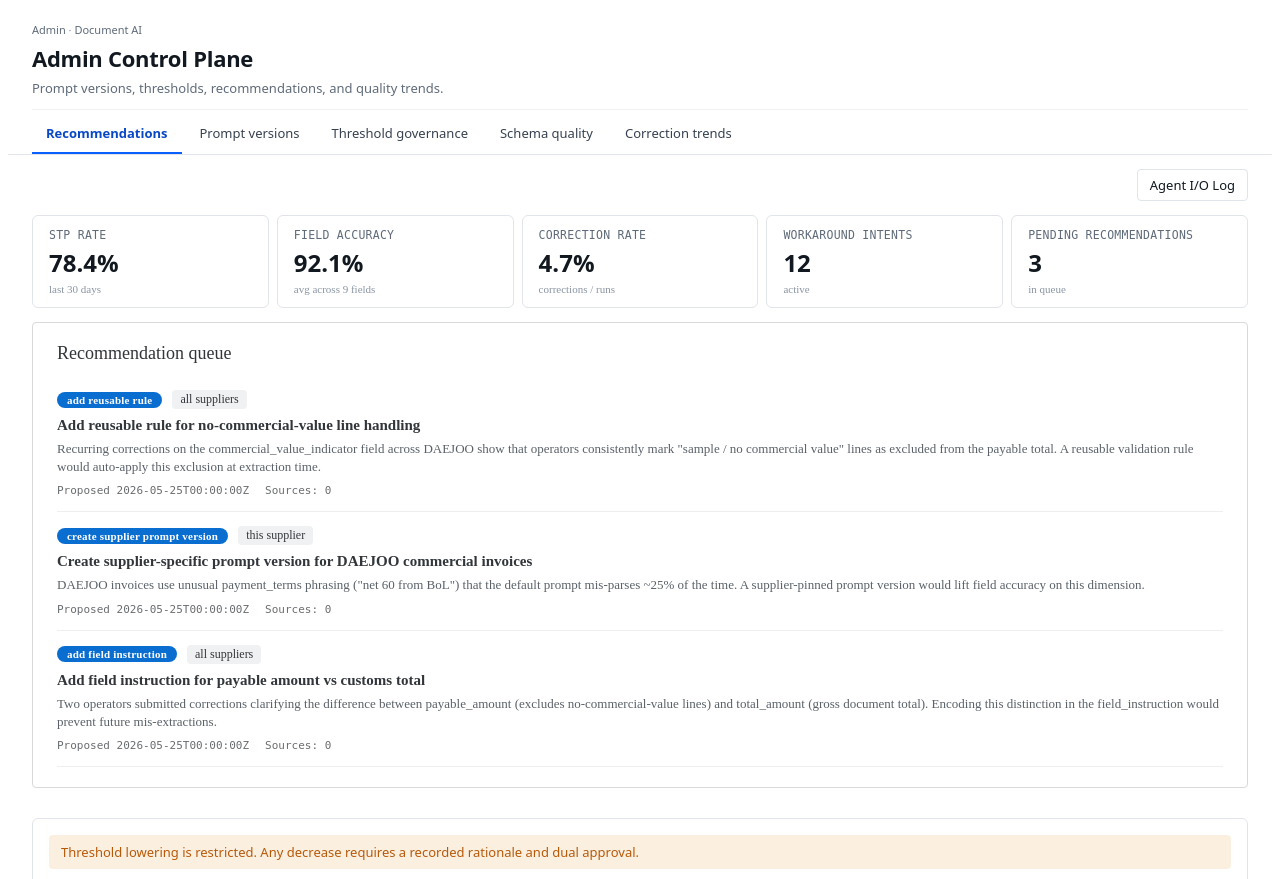
Test: F-30 AdminRoute — Agent I/O Log entry point › toggling the button again unmounts the panel
Click the button with test id "admin-agent-io-log-button": (1192, 185) [1137, 169, 1248, 201]
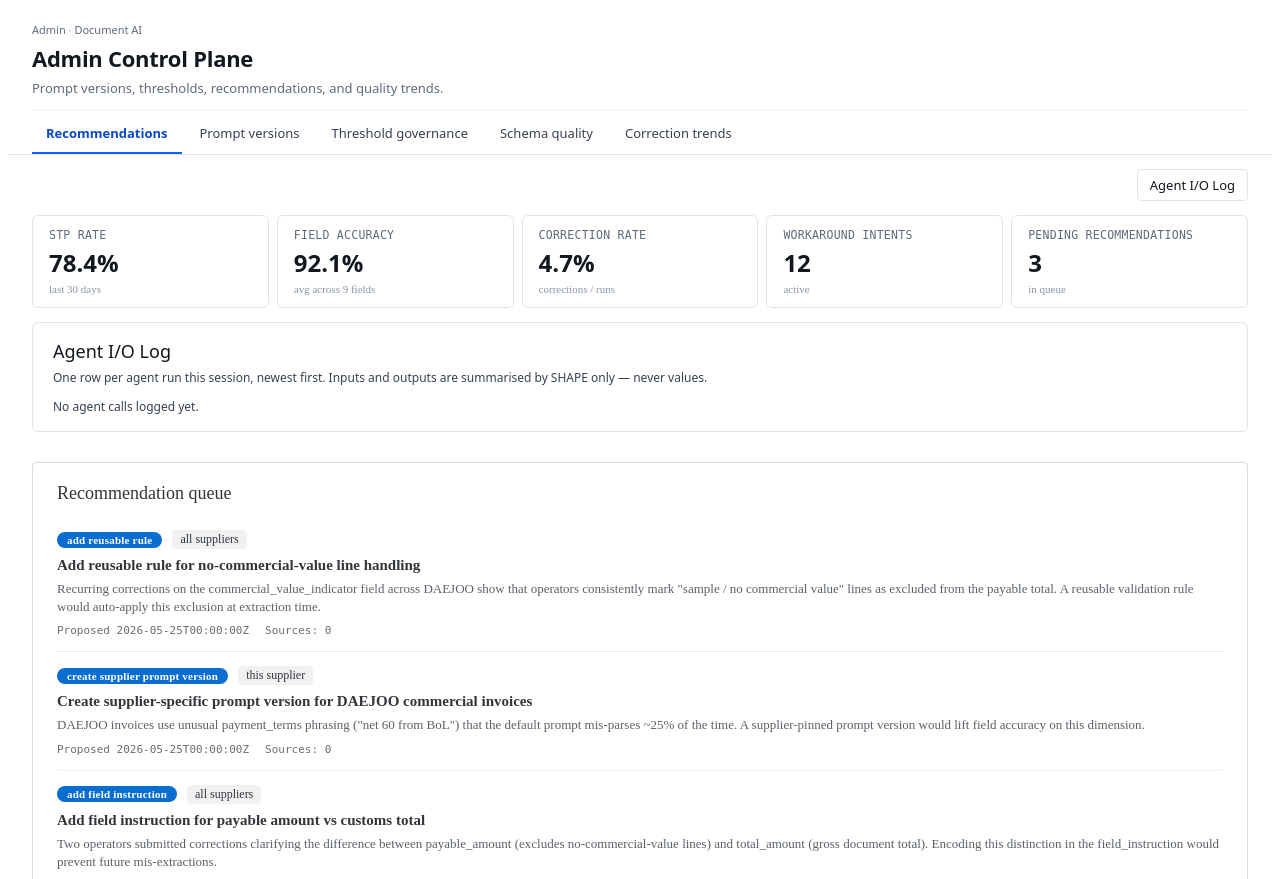
Expected: the element with test id "agent-io-log-panel" is shown, [32, 322, 1248, 432]
Click the button with test id "admin-agent-io-log-button": (1192, 185) [1137, 169, 1248, 201]
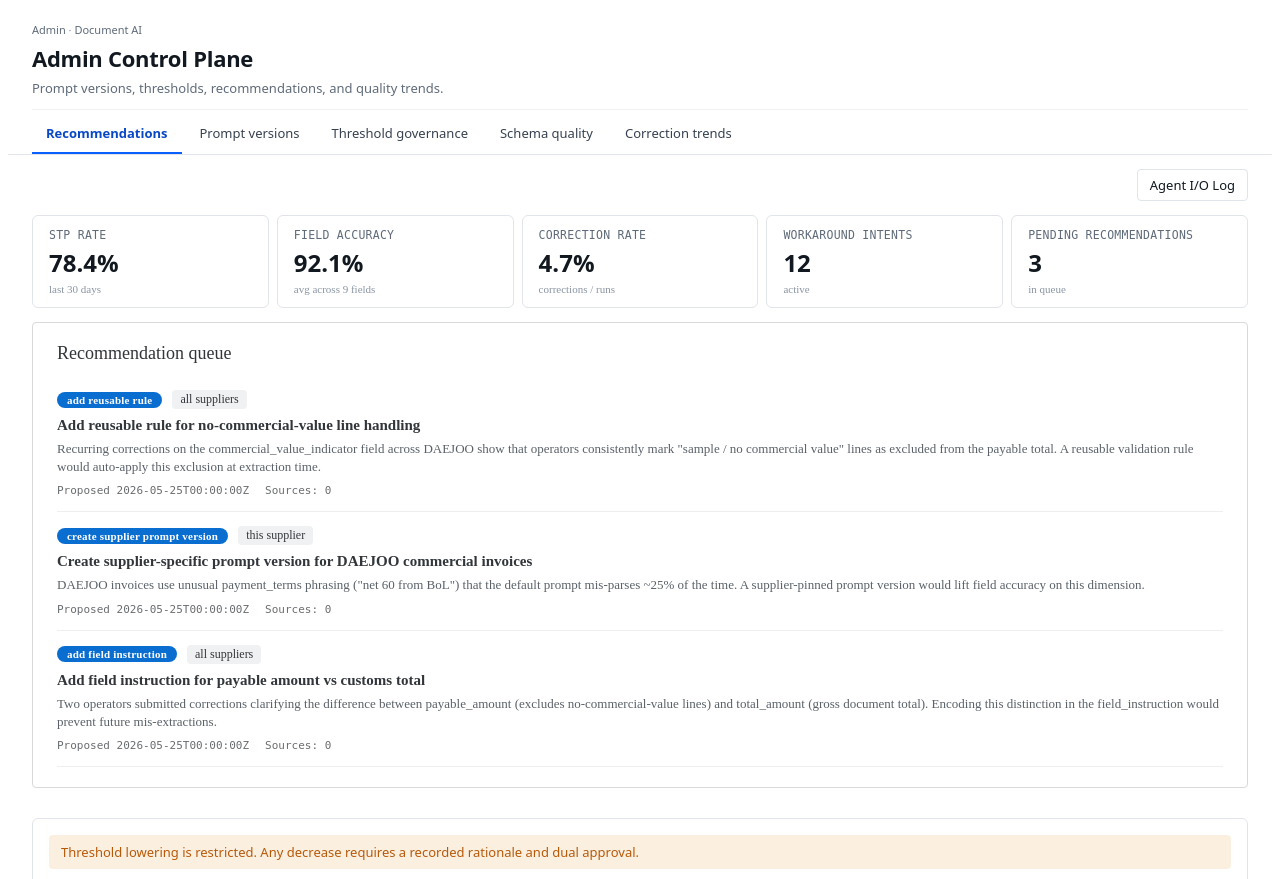
Expected: the element with test id "agent-io-log-panel" is gone
